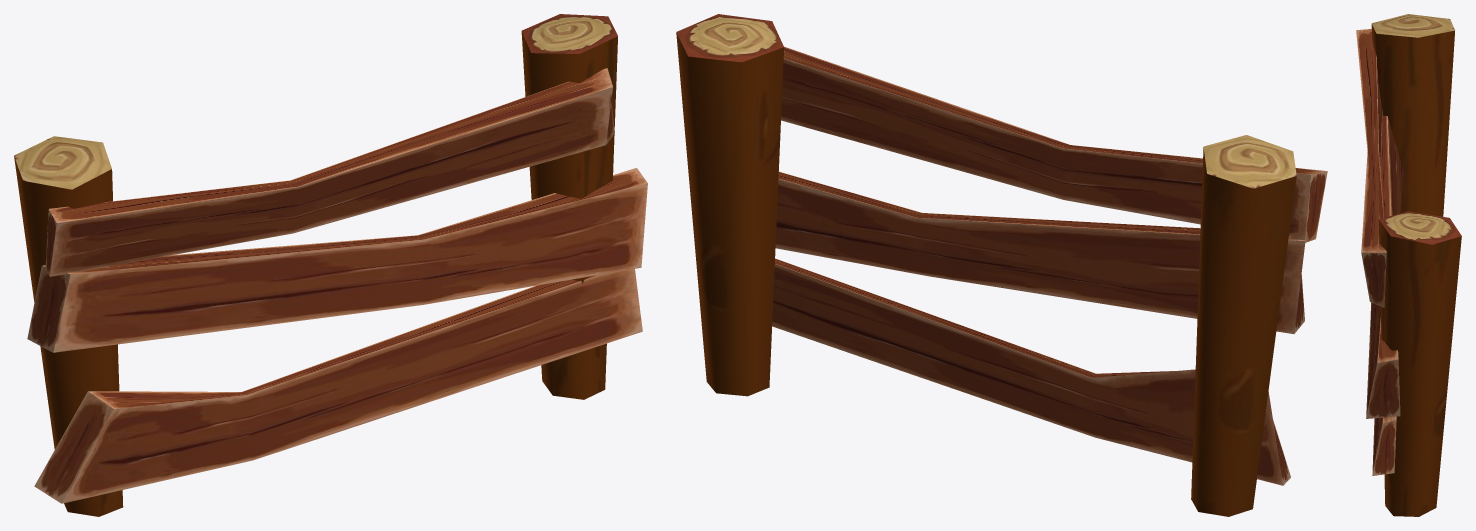
The model's file is SM_PROP_fence_v02_02.glb.
3 views of the same model, side by side, from view 1: azimuth 30°, elevation 25°; view 2: azimuth 150°, elevation 25°; view 3: azimuth 270°, elevation 25° (orthographic). The views are drawn at different scales.
Parts seen in each view (by area): view 1: SM_PROP_fence_v02_02_EXPORT; view 2: SM_PROP_fence_v02_02_EXPORT; view 3: SM_PROP_fence_v02_02_EXPORT.
Part boxes in pixels (<box>): SM_PROP_fence_v02_02_EXPORT: <box>14,14,647,516</box>; SM_PROP_fence_v02_02_EXPORT: <box>676,14,1327,516</box>; SM_PROP_fence_v02_02_EXPORT: <box>1356,14,1461,516</box>.
Bounding box in the file's own units: 2.09 × 1.17 × 0.389.
Materials: 3 (3 with a texture image).
